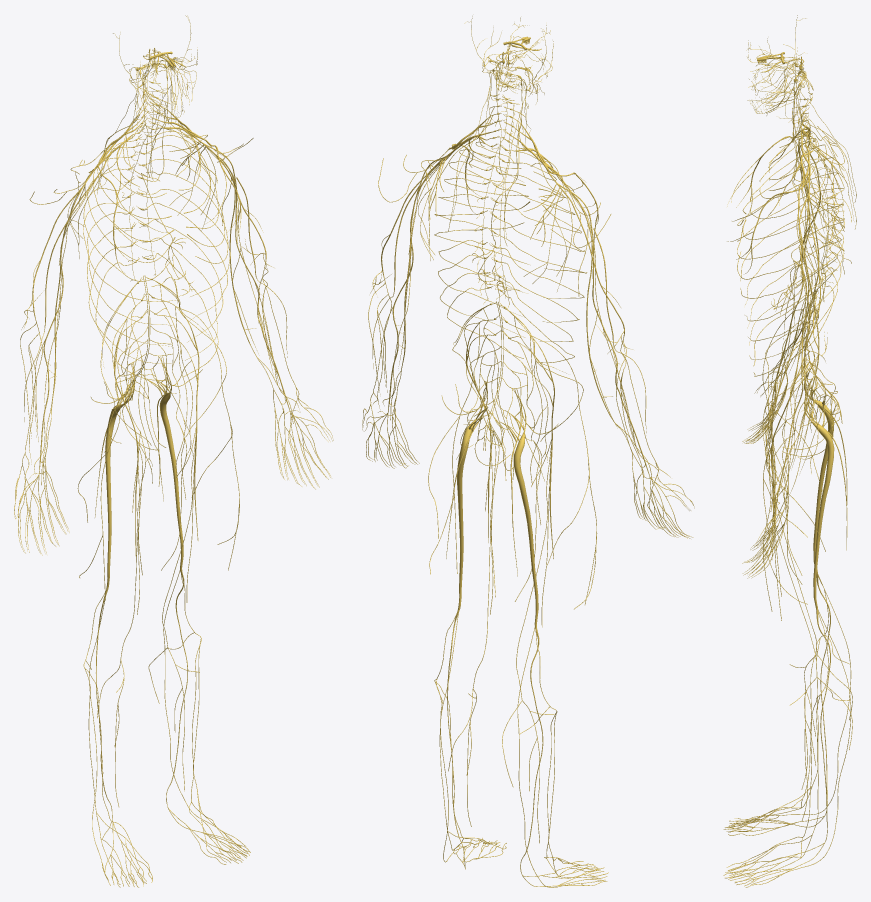
The model's file is pns.glb.
3 views of the same model, side by side, from view 1: azimuth 30°, elevation 25°; view 2: azimuth 150°, elevation 25°; view 3: azimuth 270°, elevation 25° (orthographic). The views are drawn at different scales.
Visible parts, largest first — view 1: intercostal-nerves-right, intercostal-nerves-left, sciatic-nerve-right, sciatic-nerve-left; view 2: intercostal-nerves-left, intercostal-nerves-right, sciatic-nerve-right, sciatic-nerve-left; view 3: intercostal-nerves-left, intercostal-nerves-right, sciatic-nerve-left, sciatic-nerve-right, saphenous-nerve-left, saphenous-nerve-right, median-nerve-left, lateral-femoral-cutaneous-nerve-left, vagus-nerve-x-right, ulnar-nerve-left, lateral-femoral-cutaneous-nerve-right, femoral-nerve-left (+8 smaller).
Boxes of the visible parts, <box> form: intercostal-nerves-right: <box>83,133,175,380</box>; intercostal-nerves-left: <box>143,128,230,377</box>; sciatic-nerve-right: <box>105,363,134,585</box>; sciatic-nerve-left: <box>148,356,183,567</box>; intercostal-nerves-left: <box>434,141,529,358</box>; intercostal-nerves-right: <box>496,150,587,363</box>; sciatic-nerve-right: <box>500,389,538,623</box>; sciatic-nerve-left: <box>457,382,486,605</box>; intercostal-nerves-left: <box>737,148,844,376</box>; intercostal-nerves-right: <box>737,135,844,366</box>; sciatic-nerve-left: <box>804,378,834,607</box>; sciatic-nerve-right: <box>804,365,834,571</box>; saphenous-nerve-left: <box>768,446,852,821</box>; saphenous-nerve-right: <box>768,418,852,789</box>; median-nerve-left: <box>776,193,809,502</box>; lateral-femoral-cutaneous-nerve-left: <box>762,334,825,611</box>; vagus-nerve-x-right: <box>771,70,819,315</box>; ulnar-nerve-left: <box>784,185,819,473</box>; lateral-femoral-cutaneous-nerve-right: <box>762,309,825,549</box>; femoral-nerve-left: <box>771,314,810,559</box>.
Bounding box in the file's own units: 0.6674 × 1.66 × 0.2426.
